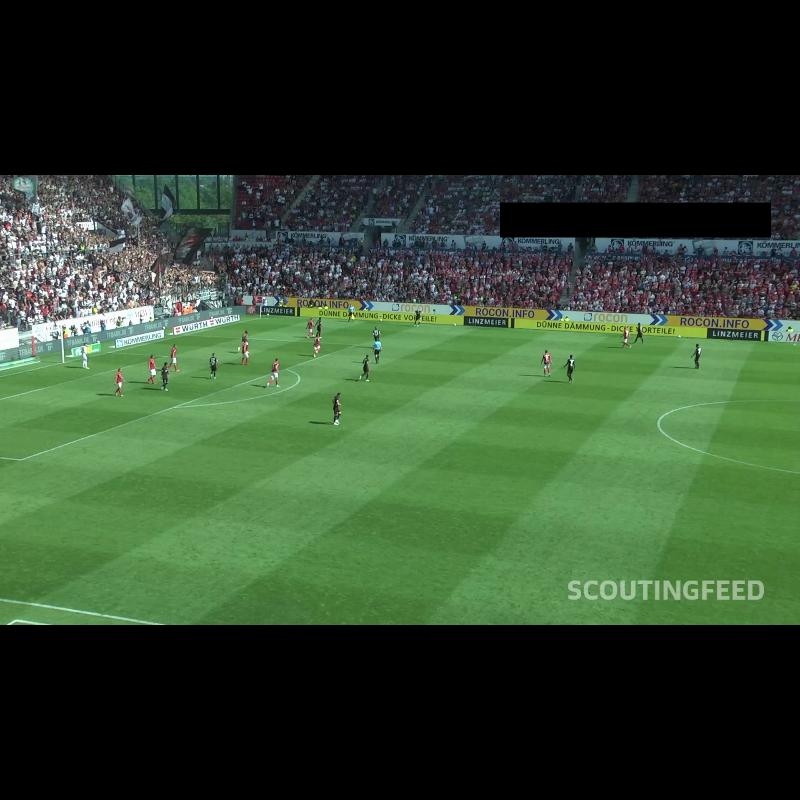cross_recipient_zone: (0, 334, 356, 460)
crossing_player_zone: (0, 457, 247, 602), (188, 318, 547, 353)
pitch: (0, 318, 800, 625)
